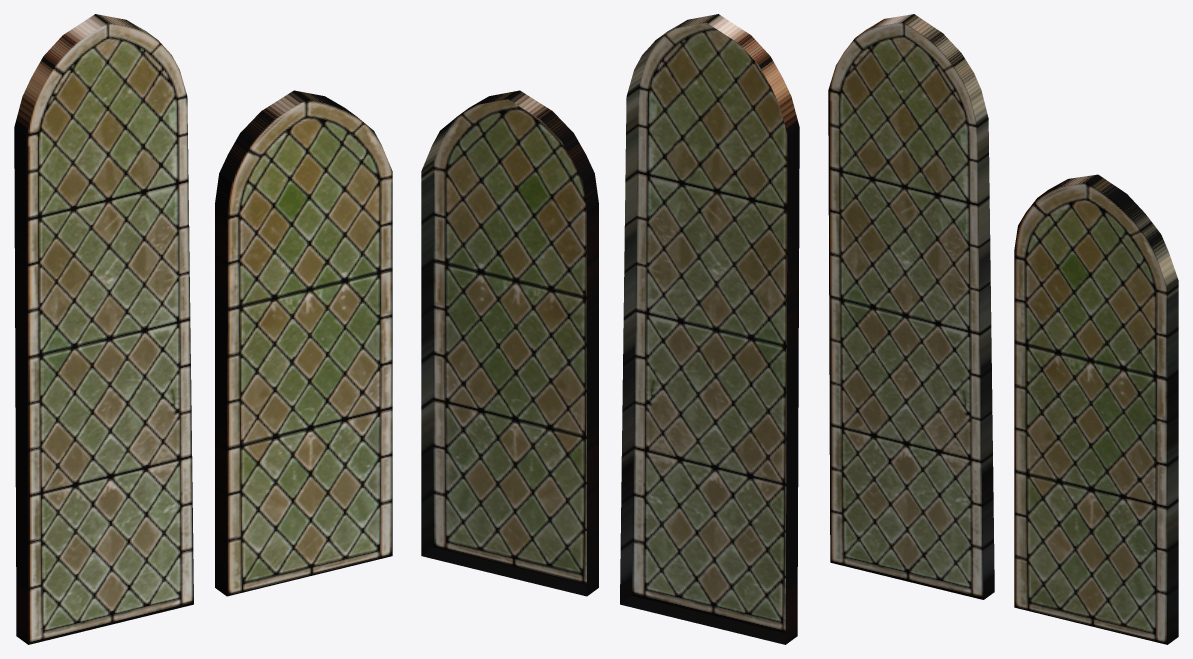
File: green_windows_1.FBX
3 views of the same model, side by side, from view 1: azimuth 30°, elevation 25°; view 2: azimuth 150°, elevation 25°; view 3: azimuth 330°, elevation 25° (orthographic). The views are drawn at different scales.
Visible parts, largest first — view 1: green_windows_1; view 2: green_windows_1; view 3: green_windows_1.
Boxes of the visible parts, x1,y1,x2,y2 form: green_windows_1: (14, 14, 392, 644); green_windows_1: (421, 14, 799, 644); green_windows_1: (828, 14, 1178, 644).
Size of the model in its own units: 121 by 191 by 6.84.
1 material, 1 textured.
